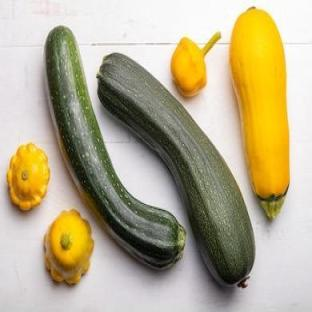Zucchini: (98, 53, 255, 286), (45, 27, 185, 268)
